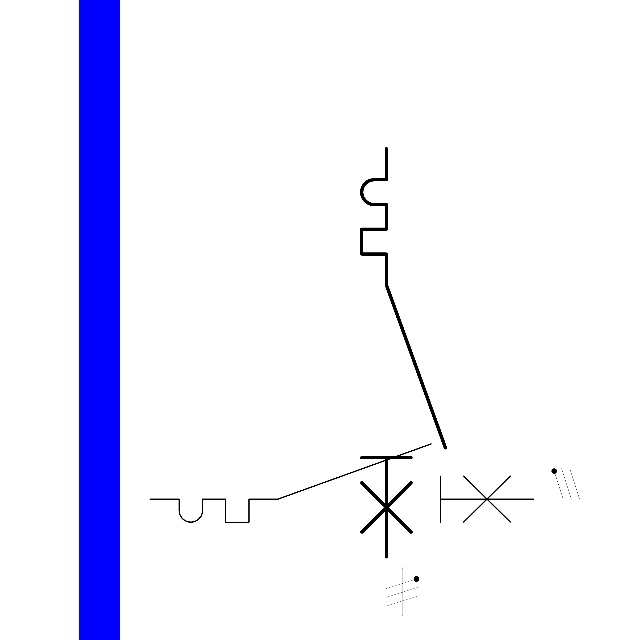interruptor_termomagnetico: (351, 138, 456, 568), (140, 434, 543, 532)
